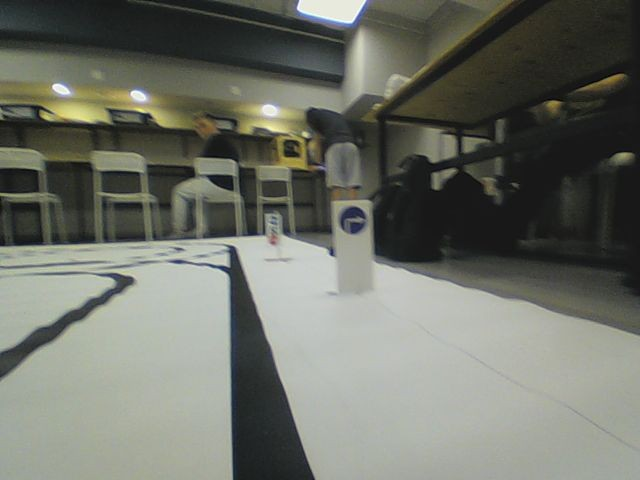Right: (337, 205, 370, 236)
